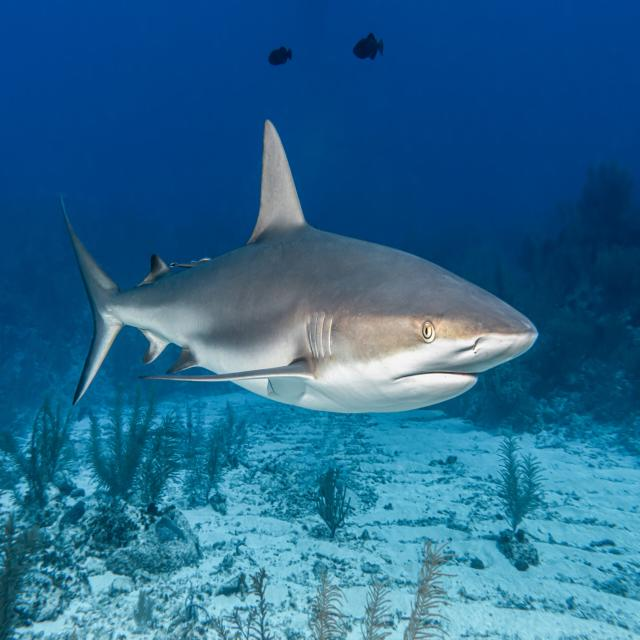shark: (306, 311, 332, 358)
